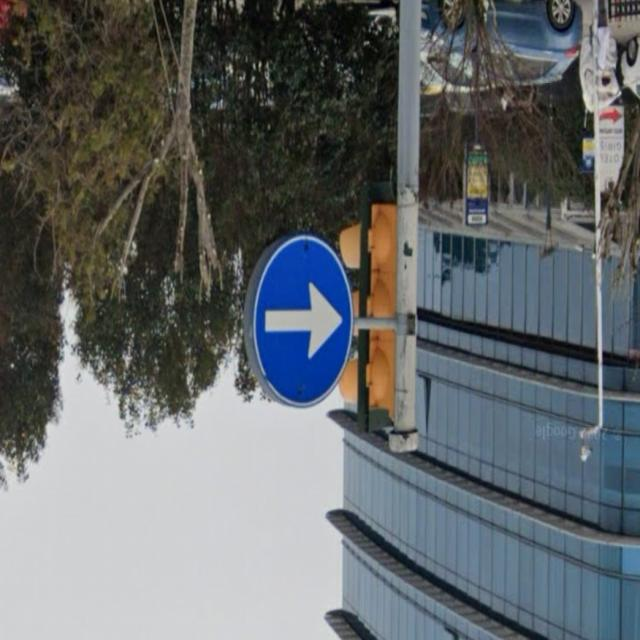Turn Right: (249, 230, 354, 412)
